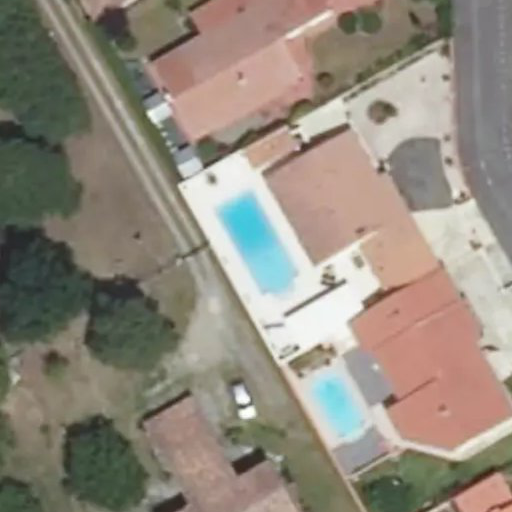pool: (212, 207, 306, 284)
